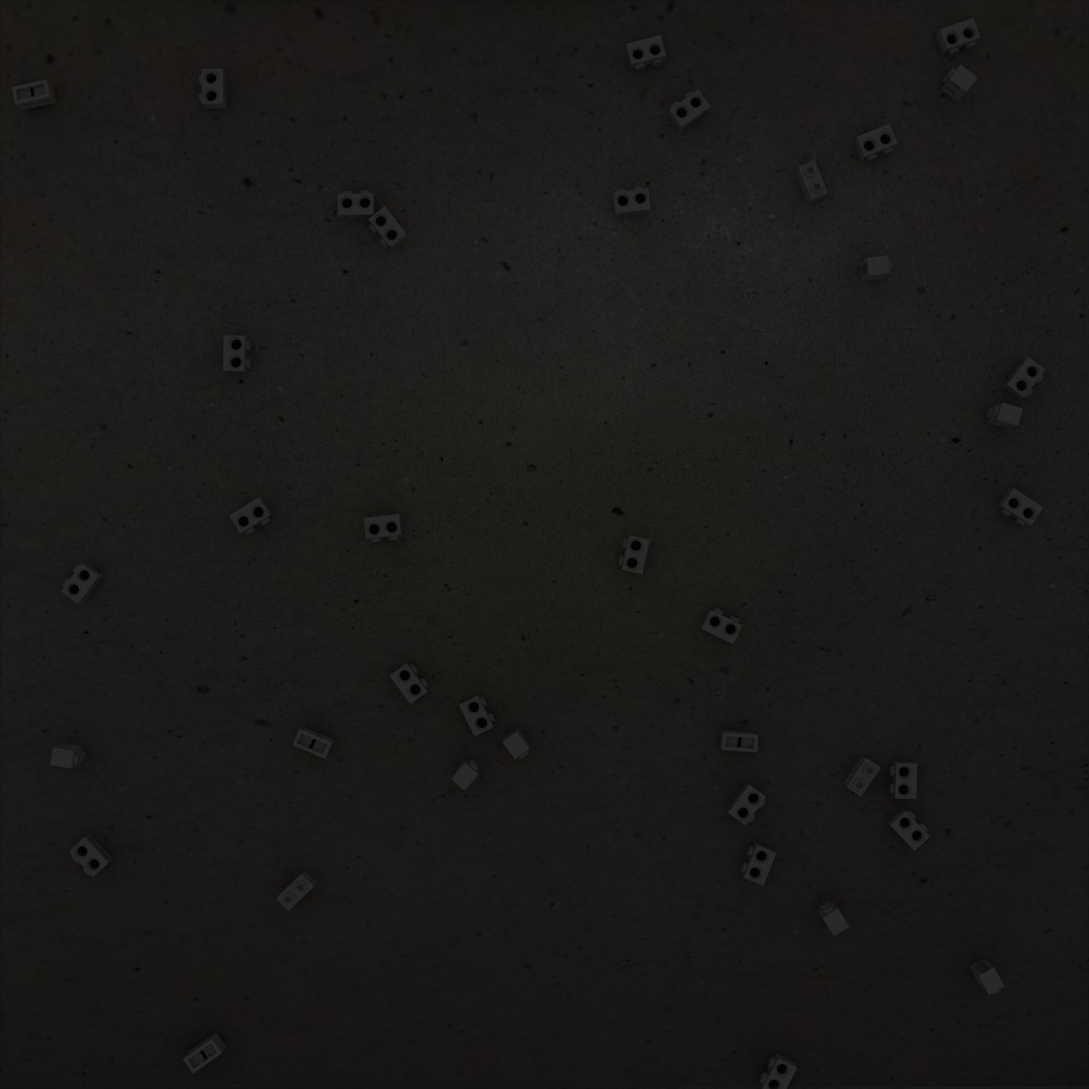lego: (69, 834, 113, 877), (887, 808, 930, 851), (668, 89, 711, 132), (1002, 357, 1045, 399), (183, 1032, 226, 1074), (61, 563, 104, 604), (368, 206, 408, 250), (997, 488, 1043, 526), (726, 782, 766, 825), (276, 870, 317, 911), (389, 662, 429, 704), (229, 497, 273, 535), (842, 755, 881, 797), (936, 18, 980, 55), (853, 124, 897, 161), (459, 694, 496, 737), (741, 842, 777, 886), (700, 608, 743, 644), (795, 160, 828, 204), (940, 64, 978, 102), (11, 79, 57, 110), (292, 726, 335, 759), (759, 1052, 797, 1089), (626, 35, 666, 70), (969, 958, 1005, 995), (618, 535, 650, 574), (612, 186, 651, 217), (817, 900, 849, 936), (199, 68, 227, 109), (364, 514, 403, 542), (338, 190, 375, 219), (223, 335, 251, 373), (889, 761, 917, 799), (986, 402, 1023, 428), (451, 758, 480, 791), (50, 743, 86, 769), (719, 730, 759, 753), (502, 727, 530, 759), (859, 255, 892, 282)
